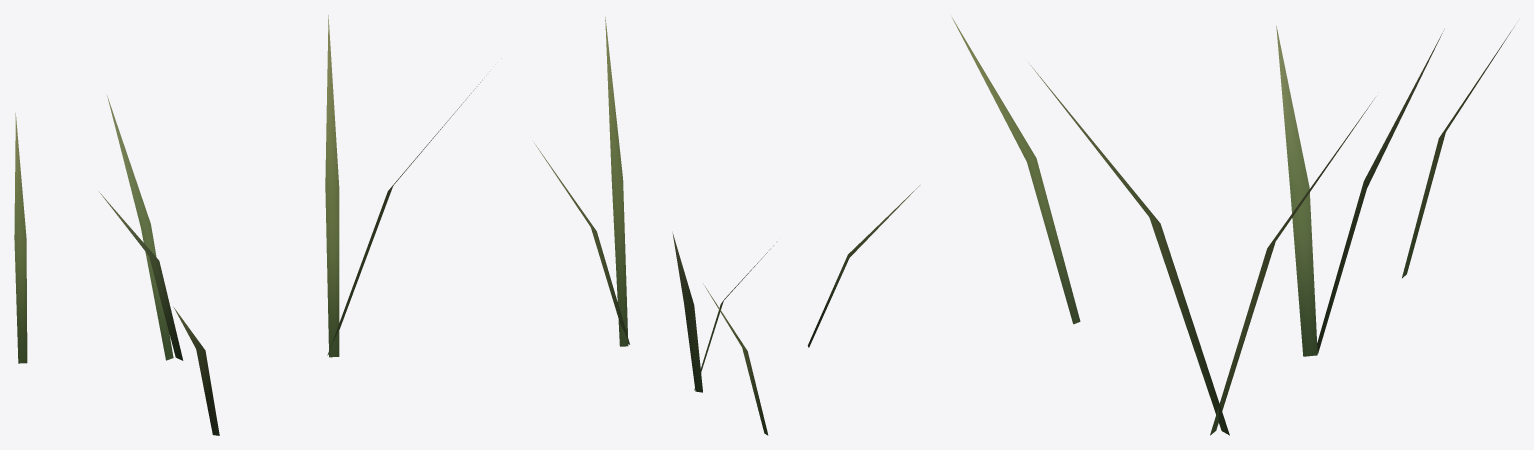
The model's file is meadow_seedheads_far.gltf.
3 renders of one model, left to right at view 1: azimuth 30°, elevation 25°; view 2: azimuth 150°, elevation 25°; view 3: azimuth 270°, elevation 25°, orthographic. The views are drawn at different scales.
Parts seen in each view (by area): view 1: meadow_seedheads_far; view 2: meadow_seedheads_far; view 3: meadow_seedheads_far.
Boxes of the visible parts, box(x1,y1,x2,y2) form: meadow_seedheads_far: box(14, 15, 486, 435); meadow_seedheads_far: box(534, 17, 919, 435); meadow_seedheads_far: box(952, 17, 1514, 435).
Bounding box in the file's own units: 0.988 × 0.8635 × 1.02.
Materials: 2 (2 with a texture image).
